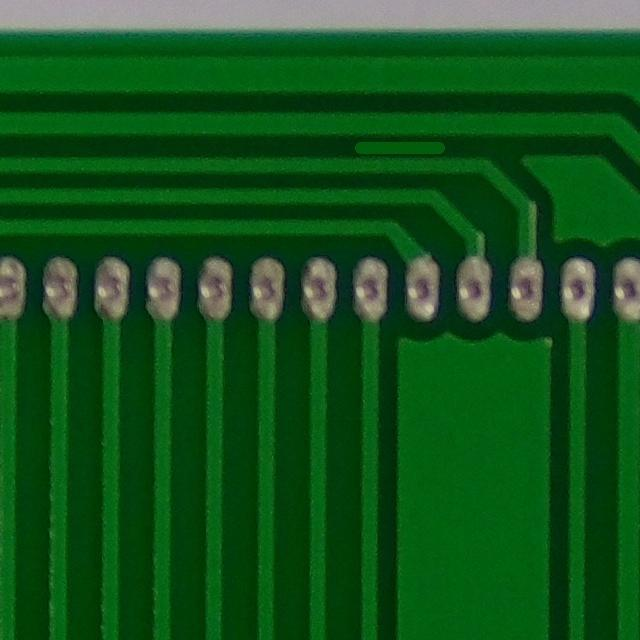spurious_copper: (342, 124, 460, 168)
